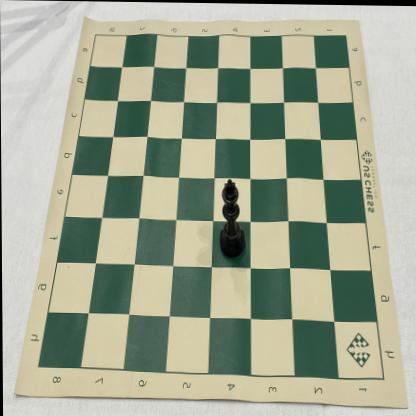black-king: (219, 178, 245, 258)
